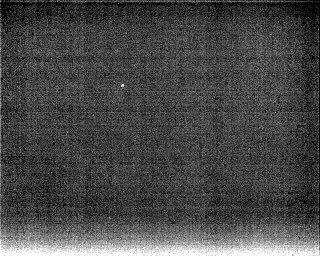BIRD: (117, 81, 127, 91)
